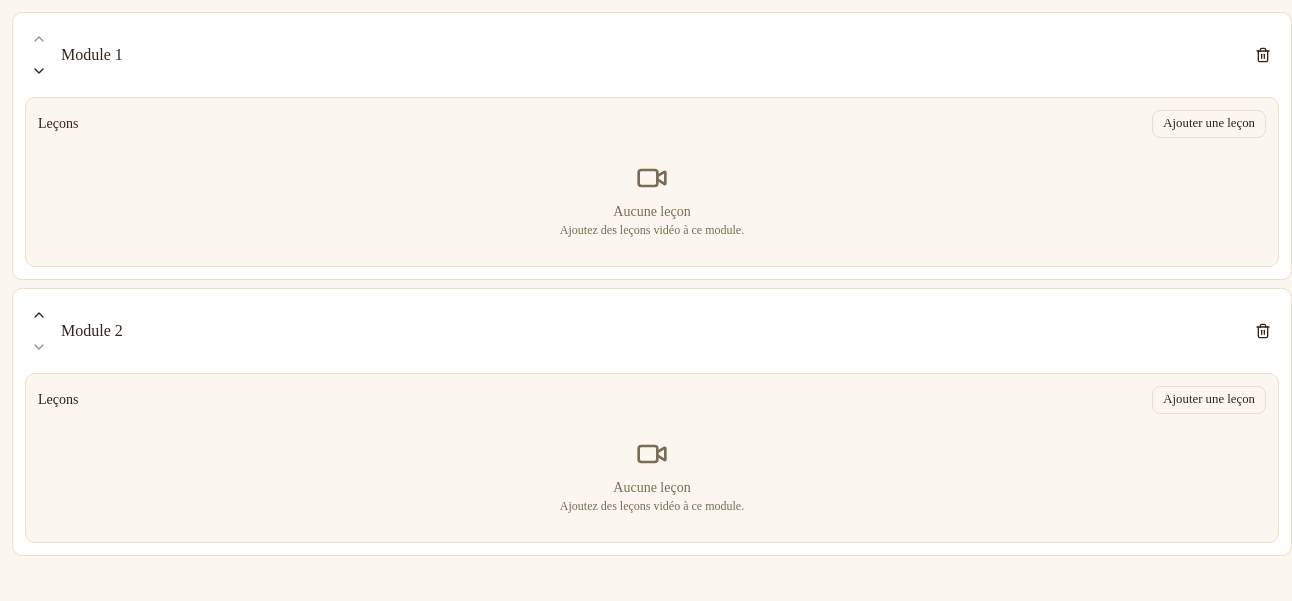
Scenario: ModuleList error handling › restores the previous title when the rename fails
Click the button "Module 1": (92, 54) [61,43,1239,67]
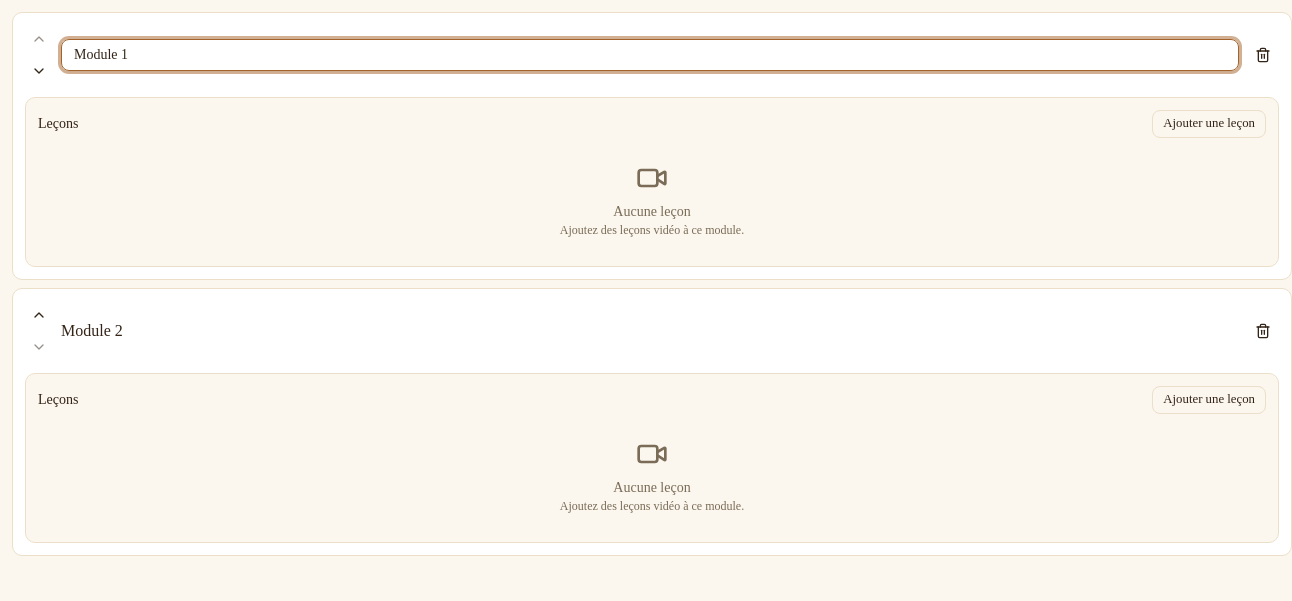
Replace the text in the field named "Titre du module" with "  Renommé  ": (650, 55) [61,39,1239,71]
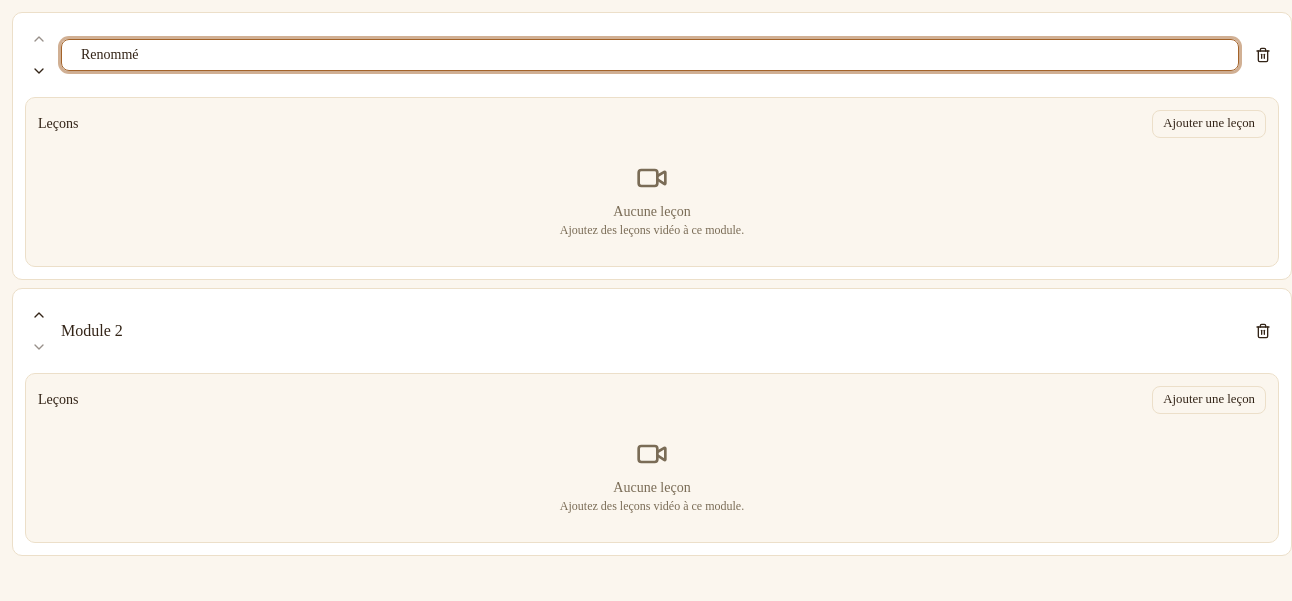
Leave the field named "Titre du module", box [61,39,1239,71]
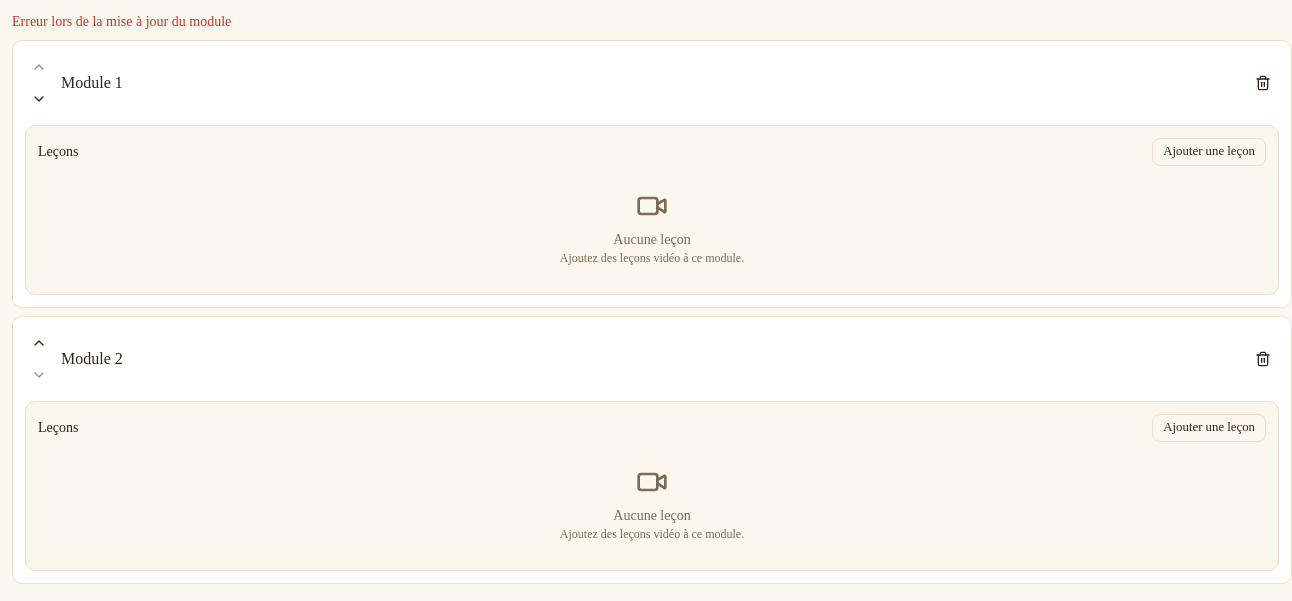
Now the message shows "mise à jour", box [12,14,231,29]
Now the button "Module 1" is shown, box [61,71,1239,95]
